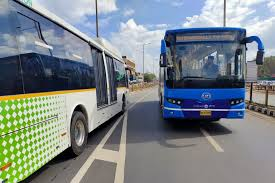Bus: (1, 1, 144, 183)
Chigari: (150, 19, 269, 130)
